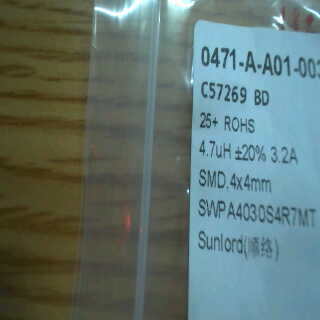4.7uH: (197, 139, 232, 157)
